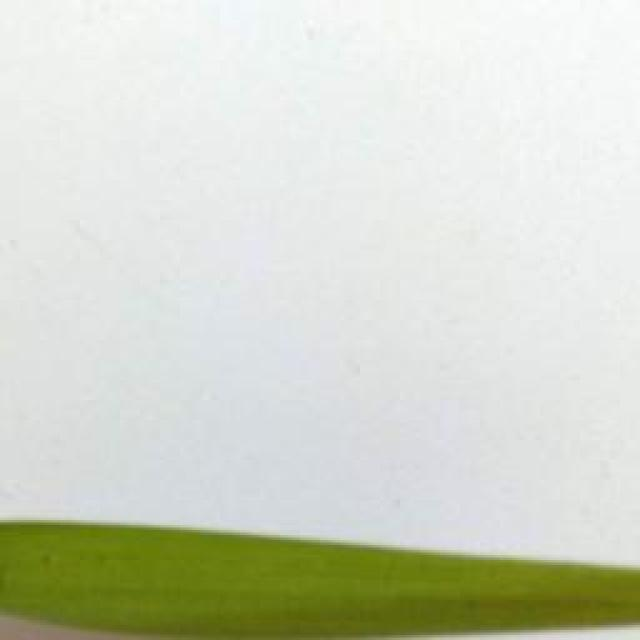Healthy-Plant: (0, 512, 640, 640)
